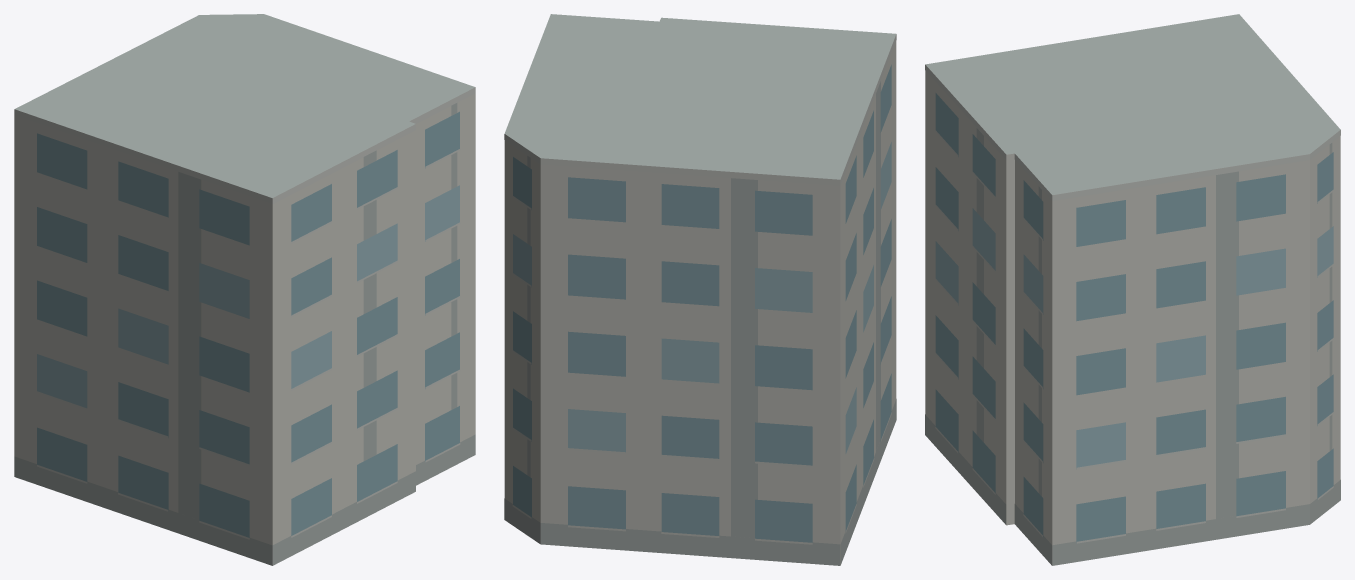
Rendered from survey-upis-32837066.glb.
3 renders of one model, left to right at view 1: azimuth 30°, elevation 25°; view 2: azimuth 150°, elevation 25°; view 3: azimuth 270°, elevation 25°, orthographic. The views are drawn at different scales.
Visible parts, largest first — view 1: survey-upis-32837066.tmp; view 2: survey-upis-32837066.tmp; view 3: survey-upis-32837066.tmp.
Part boxes in pixels (x1,y1,x2,y2): survey-upis-32837066.tmp: [14, 14, 475, 565]; survey-upis-32837066.tmp: [504, 14, 896, 565]; survey-upis-32837066.tmp: [925, 14, 1340, 565].
Bounding box in the file's own units: 15.74 × 15 × 15.25.
